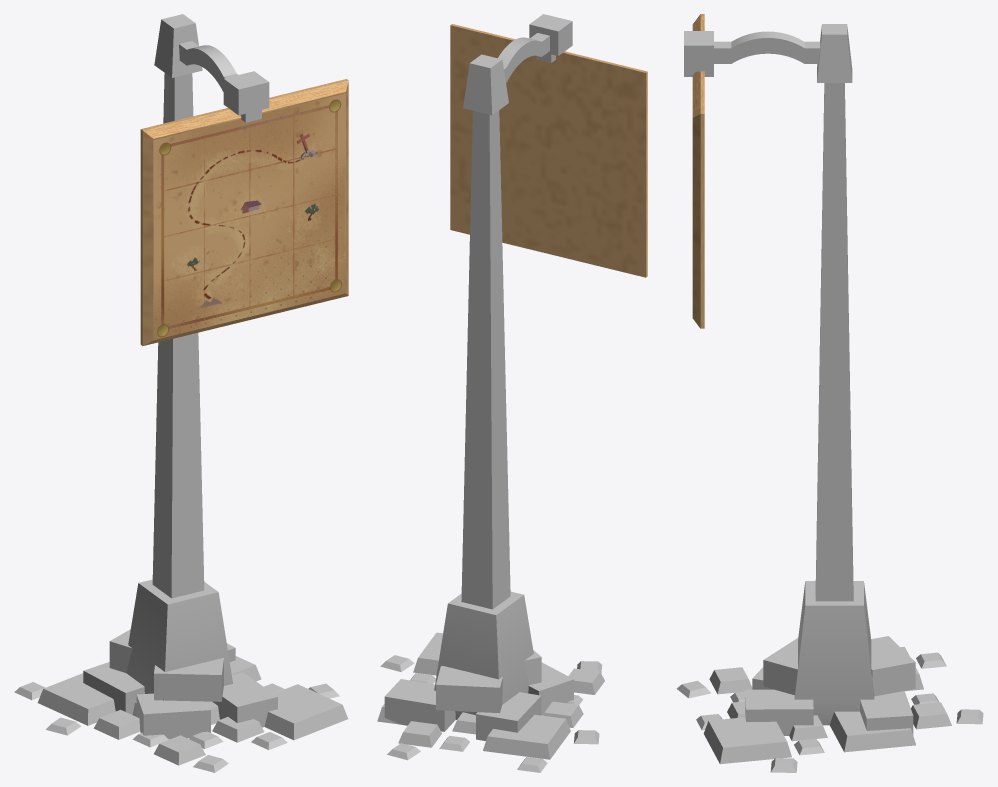
The model's file is map.obj.
The picture shows the model from 3 angles, left to right: view 1: azimuth 30°, elevation 25°; view 2: azimuth 150°, elevation 25°; view 3: azimuth 270°, elevation 25°; orthographic projection. The views are drawn at different scales.
Parts seen in each view (by area): view 1: Cube.001; view 2: Cube.001; view 3: Cube.001.
Boxes of the visible parts, x1=… form: Cube.001: x1=14, y1=14, x2=348, y2=772; Cube.001: x1=377, y1=14, x2=647, y2=772; Cube.001: x1=676, y1=14, x2=983, y2=772.
Size of the model in its own units: 0.929 by 2.37 by 0.9684.
